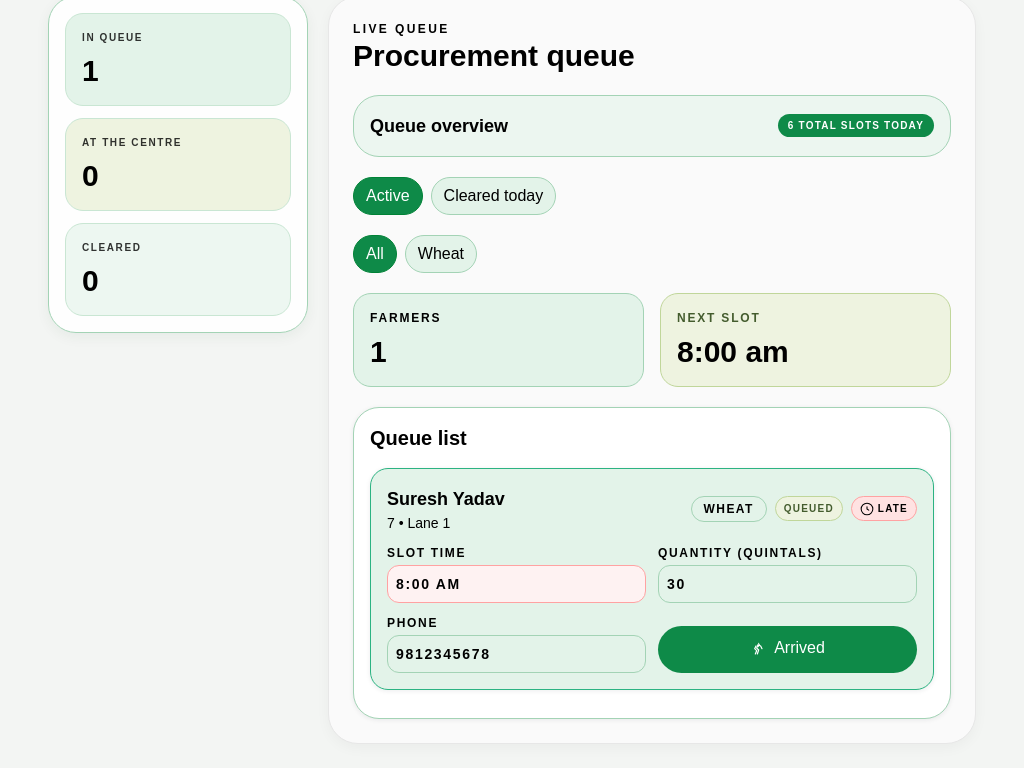
OfficerPortal › surfaces the server's error rather than failing silently
The width and height of the screenshot is (1024, 768).
(page scrolled)
Click the button "Arrived".
click(788, 649)  # box [658,626,917,672]
(page scrolled)
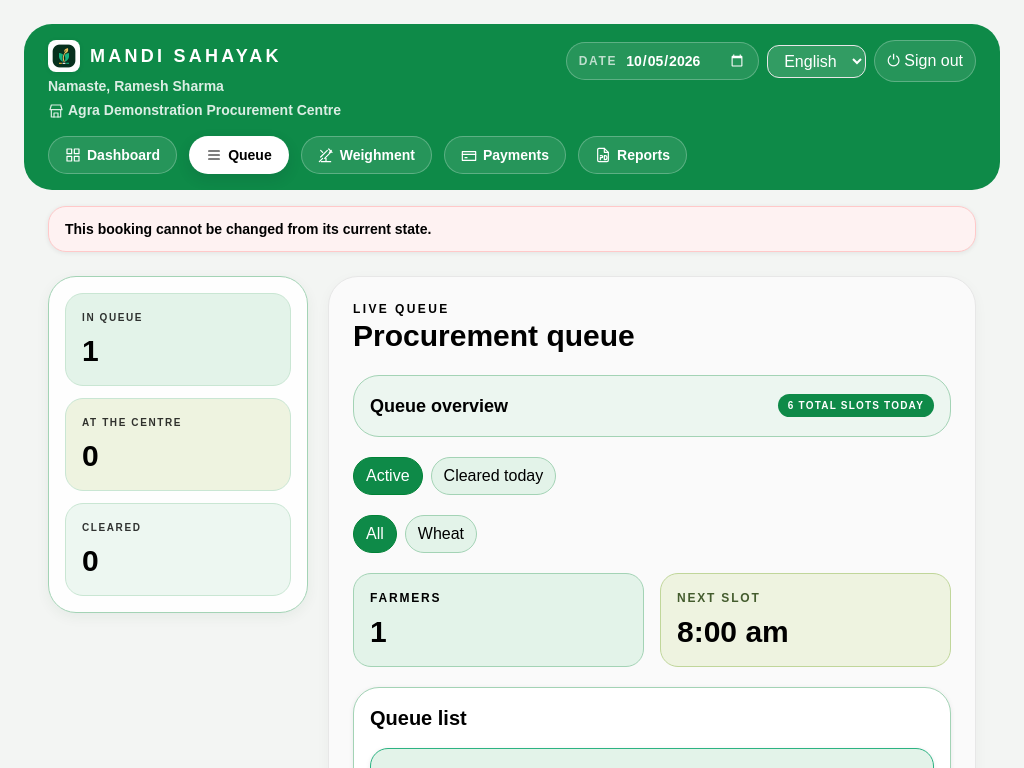
Now the text "This booking cannot be changed from its current state." is shown, box [48,206,976,252]
